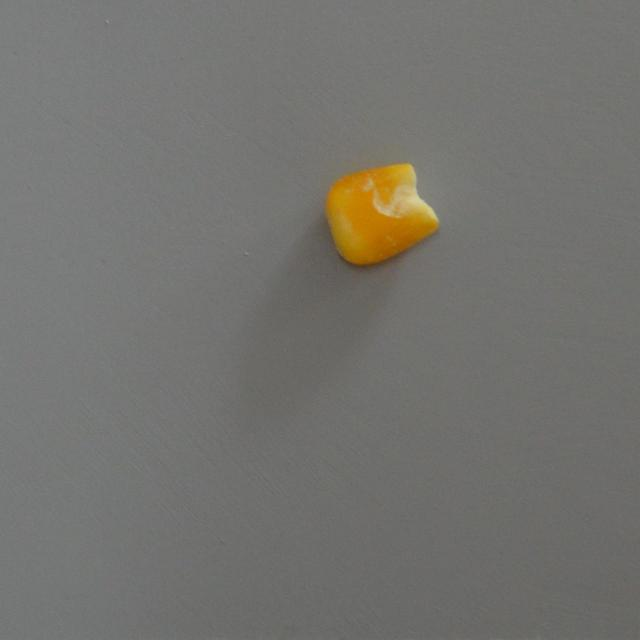no_canjicado: (322, 160, 438, 266)
